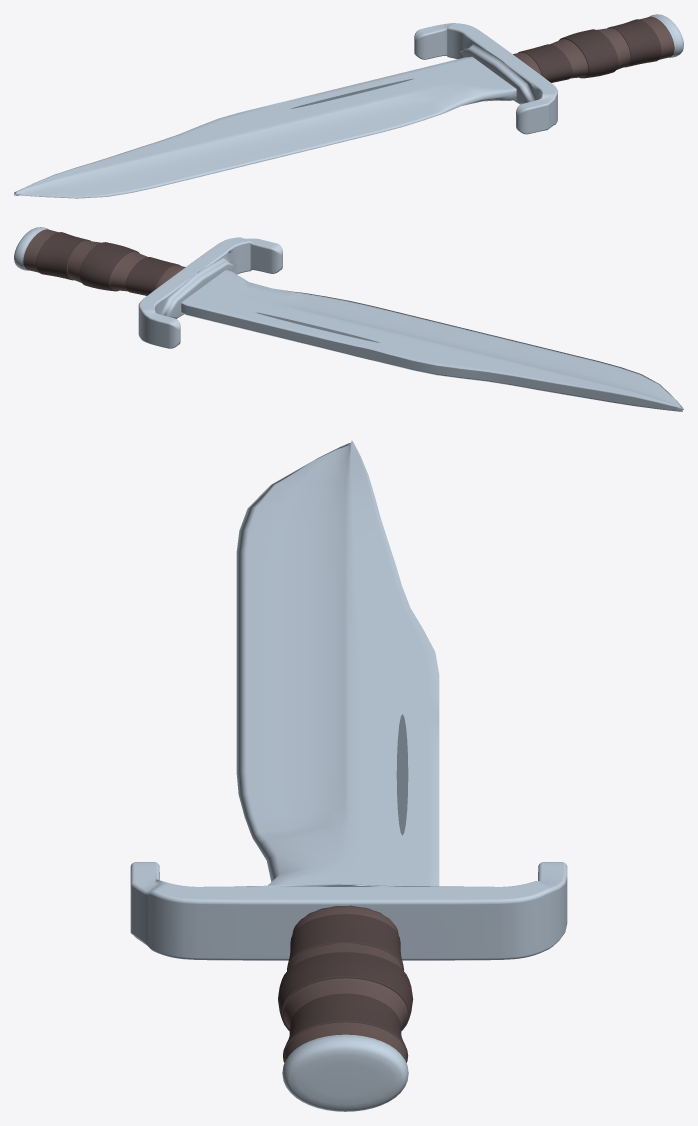
Rendered from Knife.fbx.
3 renders of one model, top to bottom at view 1: azimuth 30°, elevation 25°; view 2: azimuth 150°, elevation 25°; view 3: azimuth 270°, elevation 25°, orthographic. The views are drawn at different scales.
Parts seen in each view (by area): view 1: Knife; view 2: Knife; view 3: Knife.
Boxes of the visible parts, x1=… form: Knife: x1=14, y1=14, x2=683, y2=198; Knife: x1=14, y1=227, x2=683, y2=411; Knife: x1=130, y1=440, x2=567, y2=1111.
Size of the model in its own units: 14.45 by 0.7755 by 4.17.
